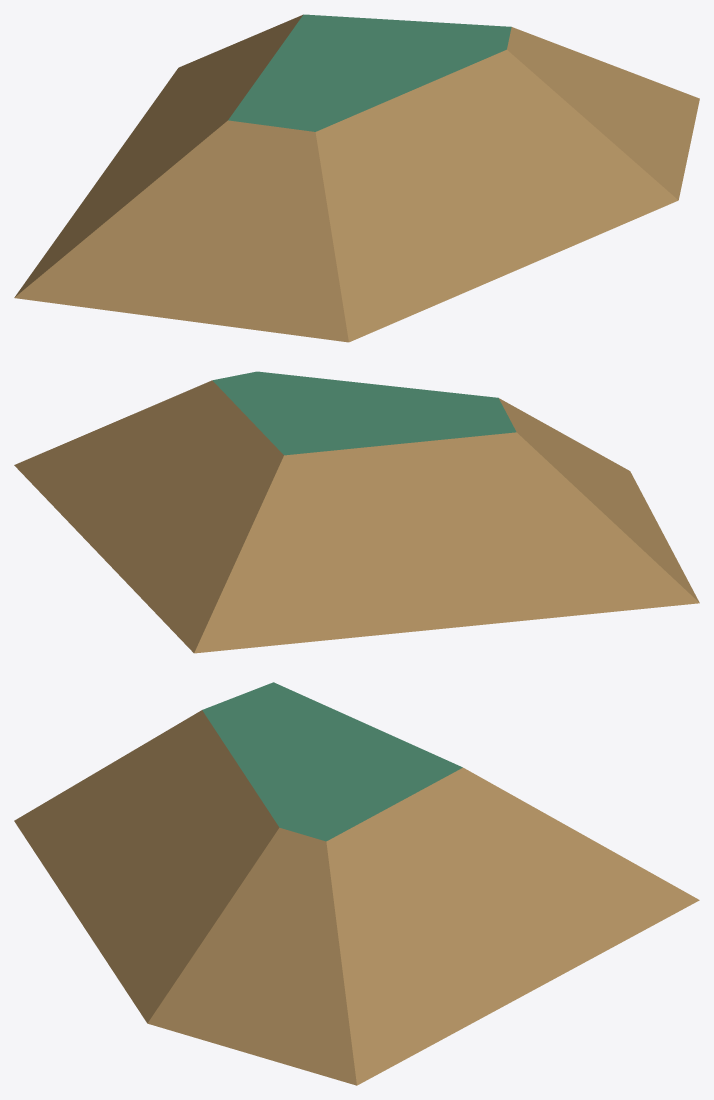
Rendered from Rock_Small_Mesa_Eroded_Moss_Grass_14.FBX.
3 views of the same model, one above another, from view 1: azimuth 30°, elevation 25°; view 2: azimuth 150°, elevation 25°; view 3: azimuth 270°, elevation 25° (orthographic). The views are drawn at different scales.
Parts seen in each view (by area): view 1: Rock_Small_Mesa_Eroded_Moss_Grass_14; view 2: Rock_Small_Mesa_Eroded_Moss_Grass_14; view 3: Rock_Small_Mesa_Eroded_Moss_Grass_14.
Boxes of the visible parts, x1=… form: Rock_Small_Mesa_Eroded_Moss_Grass_14: x1=14, y1=14, x2=699, y2=342; Rock_Small_Mesa_Eroded_Moss_Grass_14: x1=14, y1=371, x2=699, y2=653; Rock_Small_Mesa_Eroded_Moss_Grass_14: x1=14, y1=682, x2=699, y2=1085.
Size of the model in its own units: 1903 by 334 by 1487.
